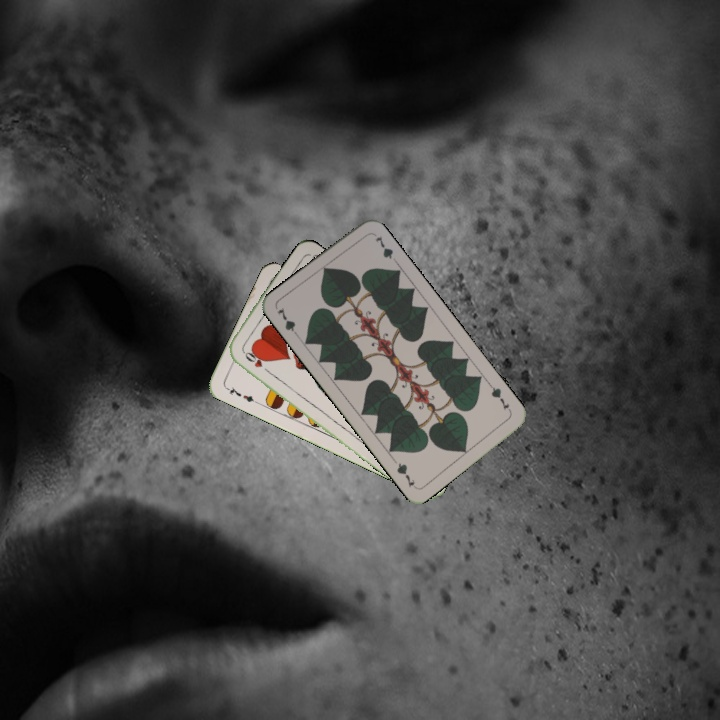E7: (222, 382, 260, 406)
G7: (273, 303, 302, 340), (485, 380, 514, 415)
HO: (239, 347, 273, 376)
